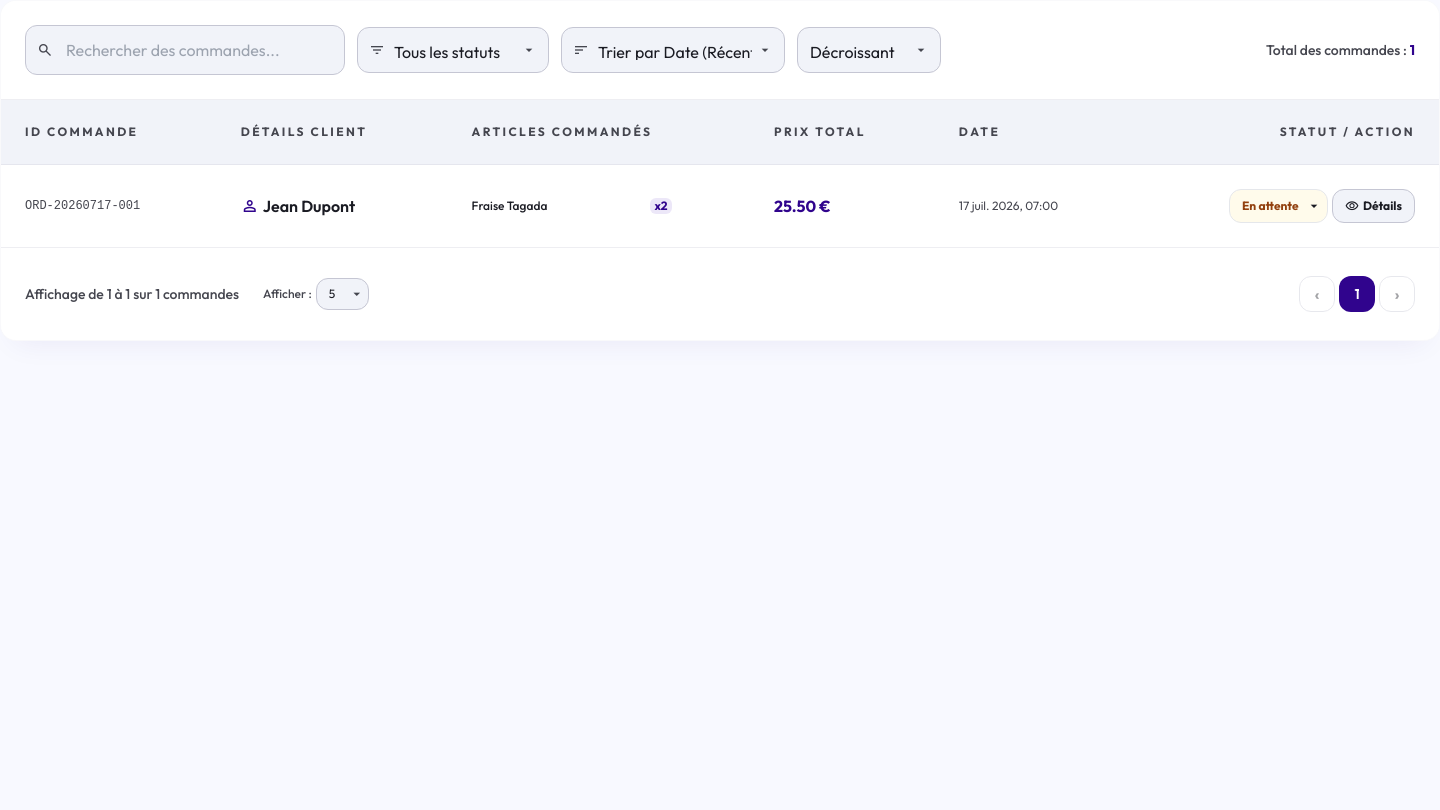
Orders Dashboard State Synchronization & Cache Invalidation › should synchronize the details modal status when query refetch updates the order
Click the button "Détails": x=1373, y=206 [1332,189,1415,223]
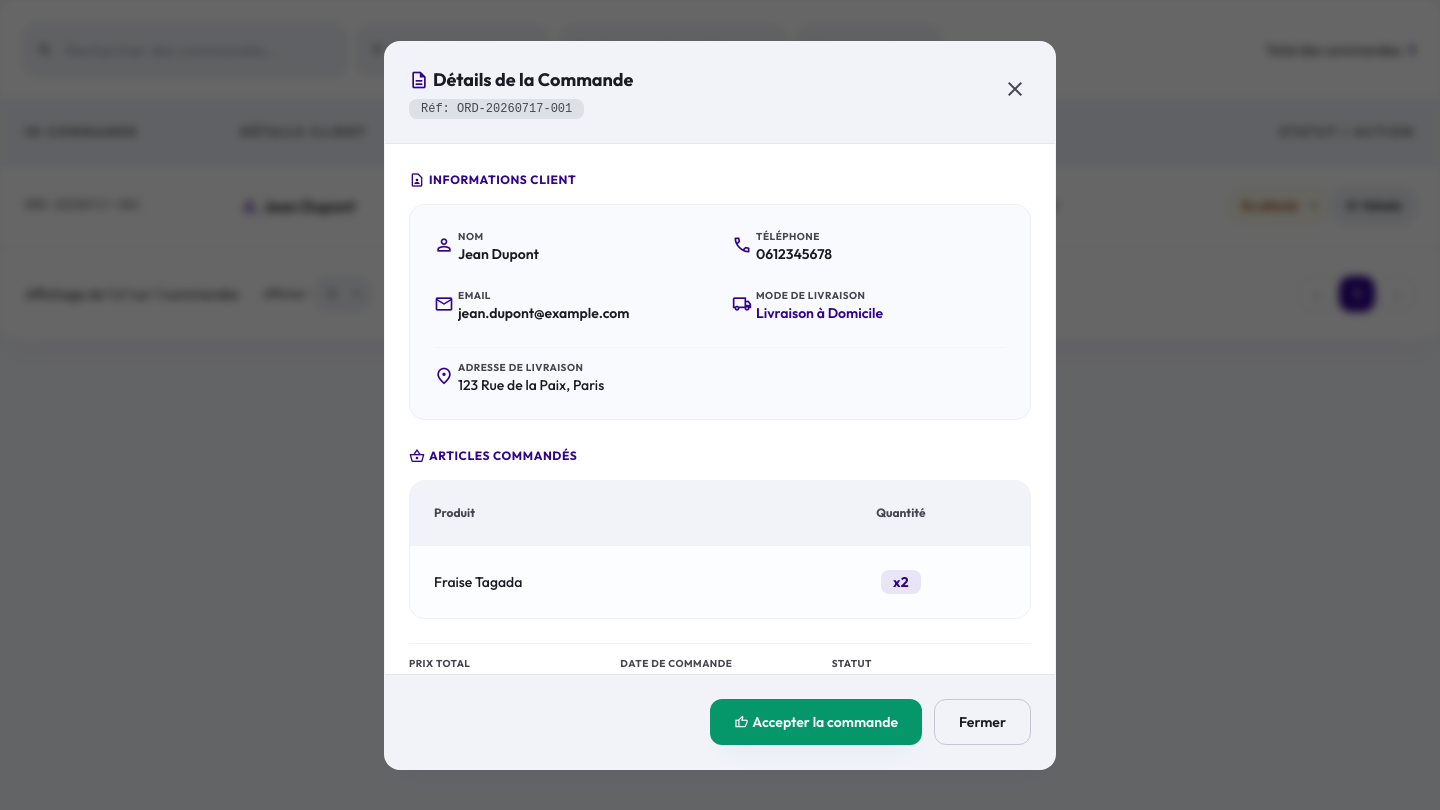
Check: the element with class "inset-0" is shown
Check: the button "Accepter la commande" is shown
Click the button "Accepter la commande": x=816, y=722 [710,698,922,744]
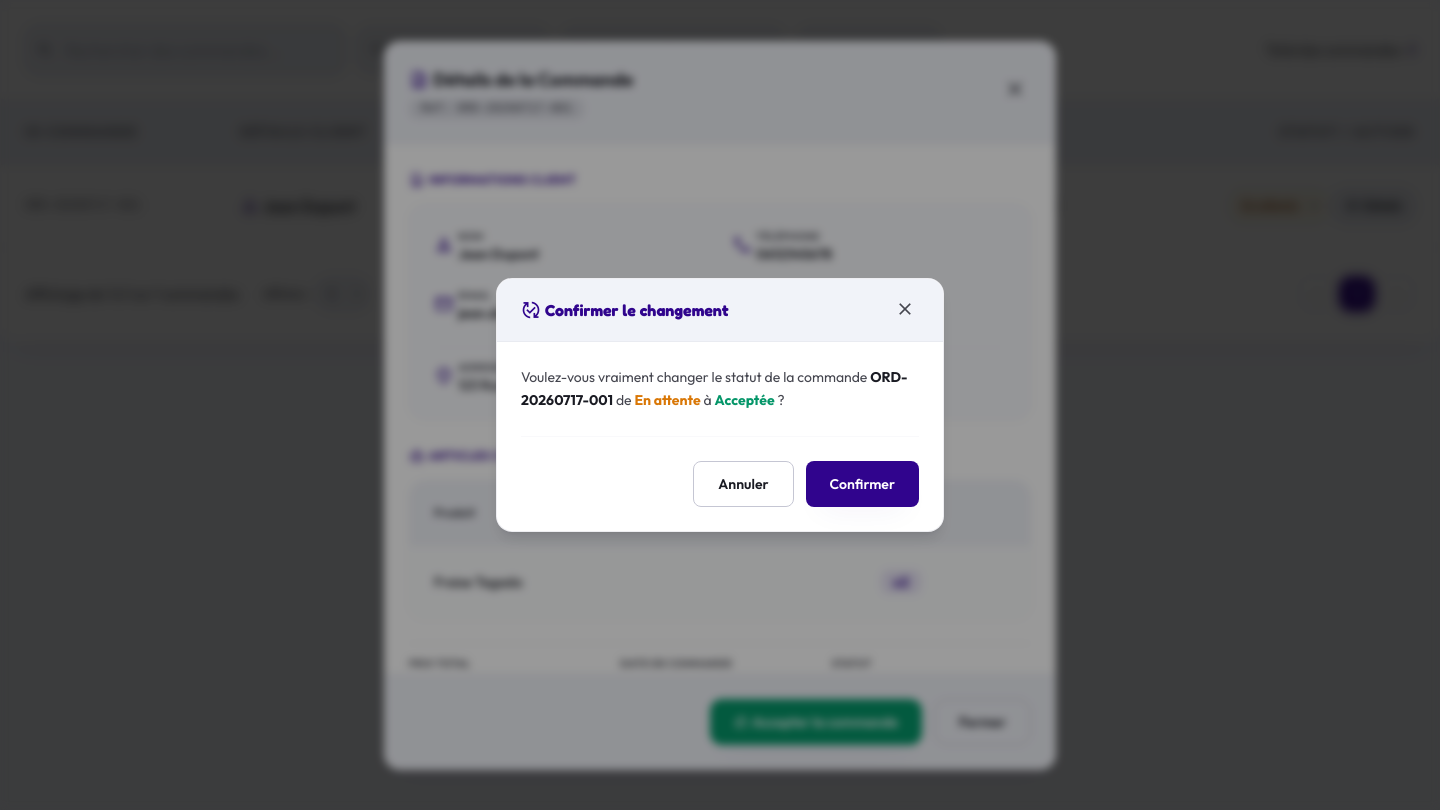
Check: the button "Confirmer" is shown
Click the button "Confirmer": x=862, y=484 [806,461,919,507]
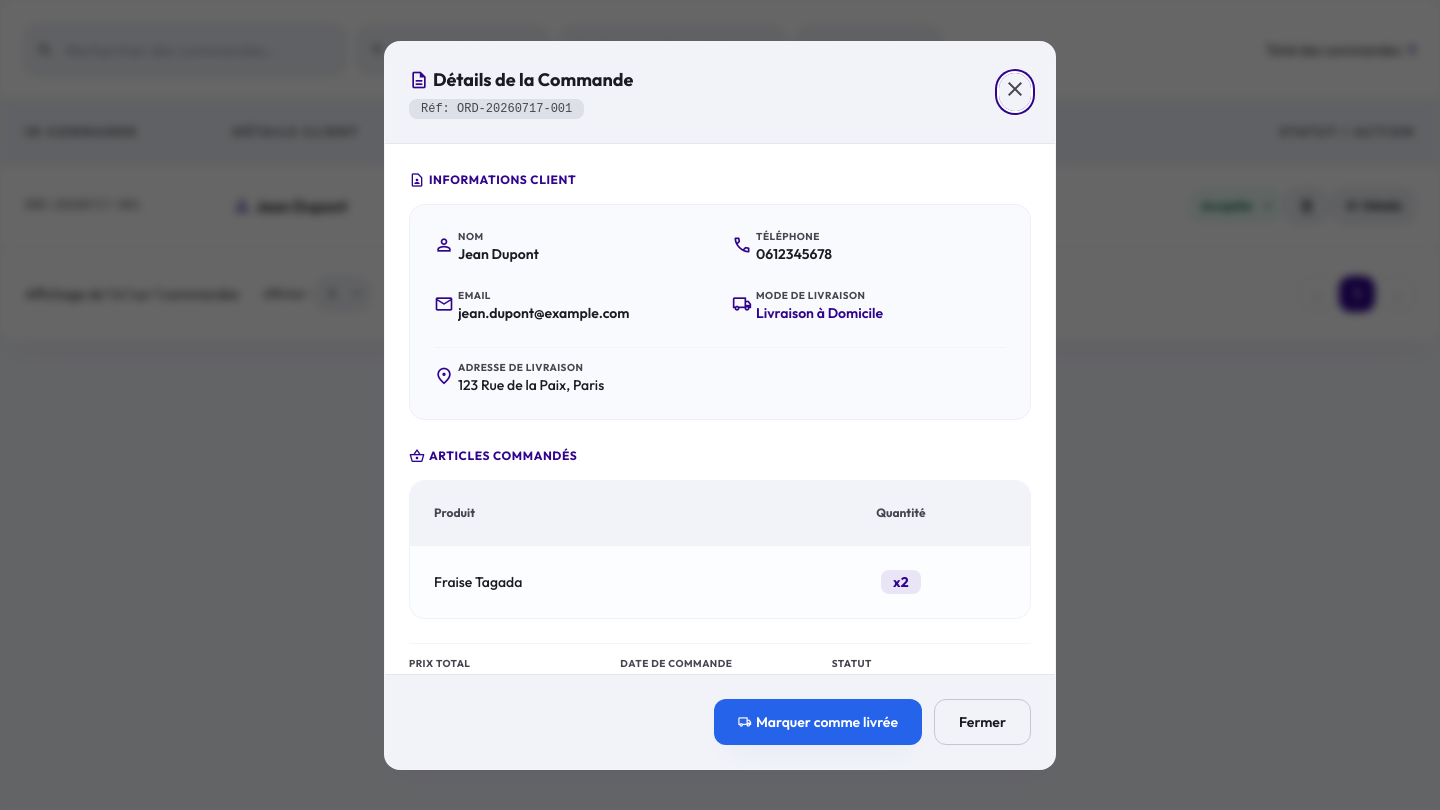
Check: the text with class "inset-0" no longer shows "En attente"
